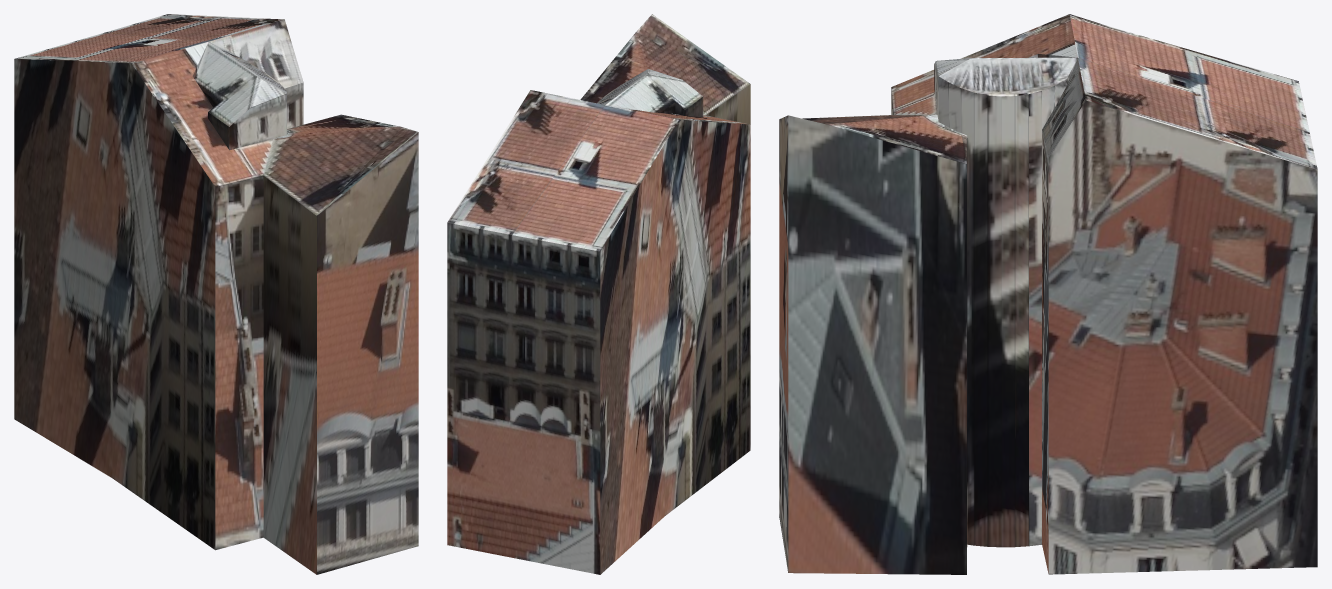
3 renders of one model, left to right at view 1: azimuth 30°, elevation 25°; view 2: azimuth 150°, elevation 25°; view 3: azimuth 270°, elevation 25°, orthographic. The views are drawn at different scales.
Parts seen in each view (by area): view 1: Z_UP; view 2: Z_UP; view 3: Z_UP.
Boxes of the visible parts, bbox=[...] form: Z_UP: bbox=[14, 14, 418, 574]; Z_UP: bbox=[447, 14, 750, 574]; Z_UP: bbox=[779, 14, 1317, 574].
Size of the model in its own units: 11.14 by 25.79 by 26.61.
2 materials, 1 textured.
